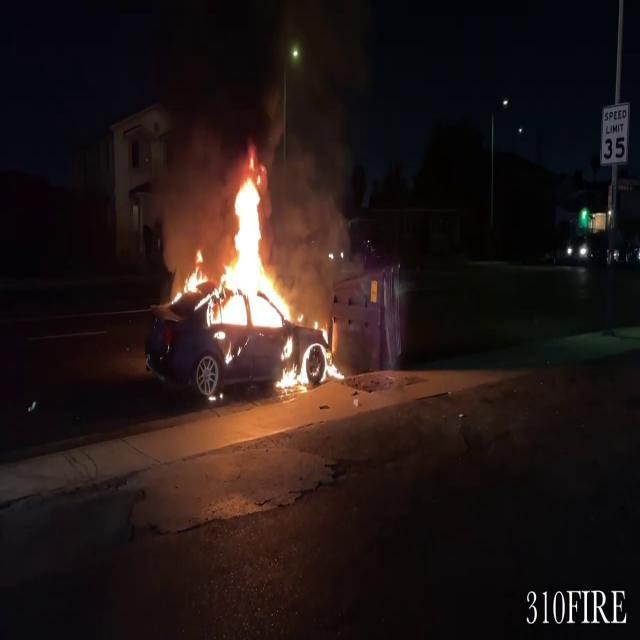Fire: (176, 158, 340, 392), (274, 317, 346, 392)
Smoke: (147, 0, 290, 216), (144, 109, 234, 252)
